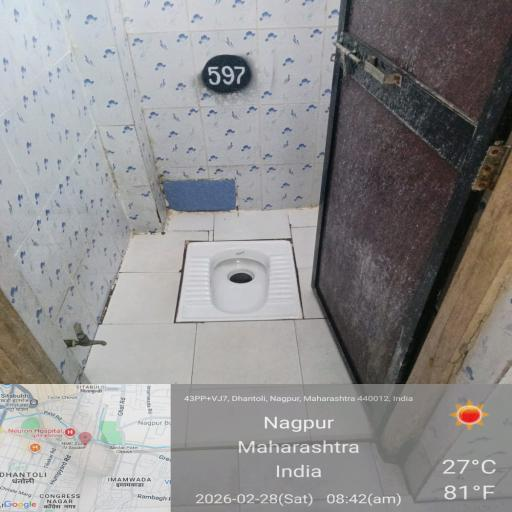clean_floor: (33, 337, 447, 512), (0, 4, 345, 196)
clean_indian: (168, 196, 342, 346)
